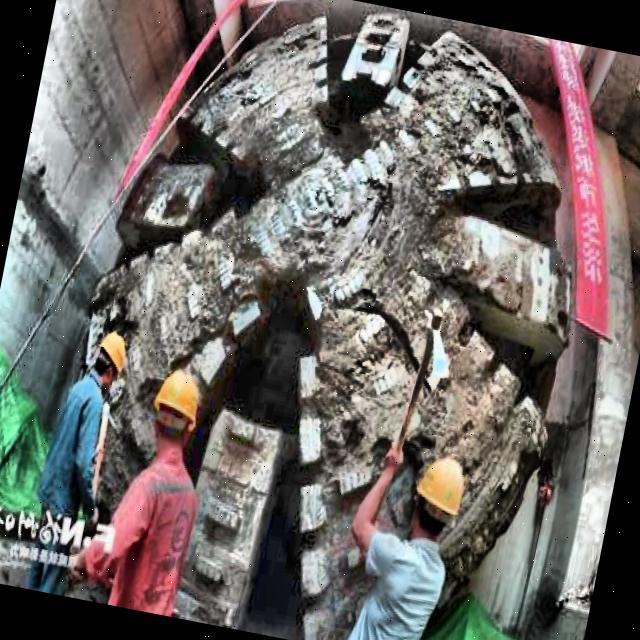helmet: (402, 446, 473, 550), (144, 364, 206, 457), (86, 326, 134, 394)
